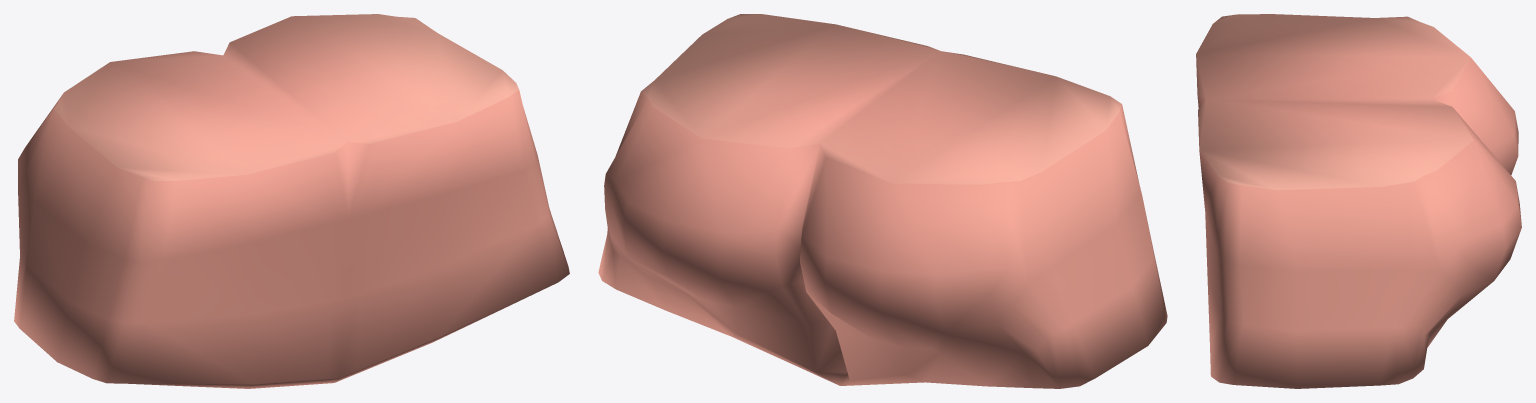
Rendered from 僅限臀部.fbx.
The picture shows the model from 3 angles, left to right: view 1: azimuth 30°, elevation 25°; view 2: azimuth 150°, elevation 25°; view 3: azimuth 270°, elevation 25°; orthographic projection. The views are drawn at different scales.
Parts seen in each view (by area): view 1: 身體; view 2: 身體; view 3: 身體.
Part boxes in pixels (x1,y1,x2,y2): 身體: (14,14,569,388); 身體: (598,14,1167,388); 身體: (1196,14,1521,388).
Size of the model in its own units: 125 by 77.64 by 61.24.
1 material, 1 textured.
